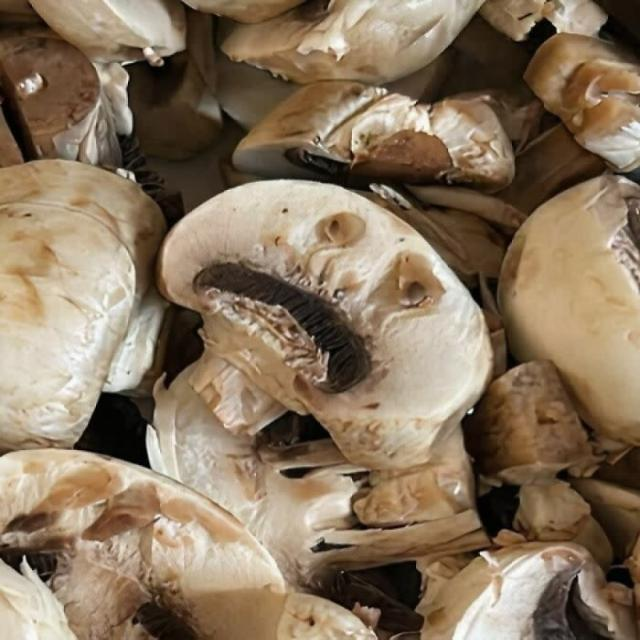champignon mushrooms: (159, 181, 491, 468), (148, 365, 490, 587), (0, 451, 374, 639), (0, 160, 166, 450), (499, 175, 639, 444), (233, 81, 514, 190), (222, 0, 483, 83), (417, 543, 637, 639), (0, 34, 126, 166), (464, 361, 592, 484), (525, 34, 639, 171), (369, 185, 507, 286), (128, 11, 222, 159), (496, 481, 613, 570), (30, 0, 186, 64), (497, 124, 606, 215), (442, 15, 530, 95), (216, 55, 299, 130), (0, 559, 76, 639), (572, 479, 639, 561), (480, 0, 607, 40), (183, 0, 305, 22), (0, 94, 24, 167), (0, 0, 40, 26)
